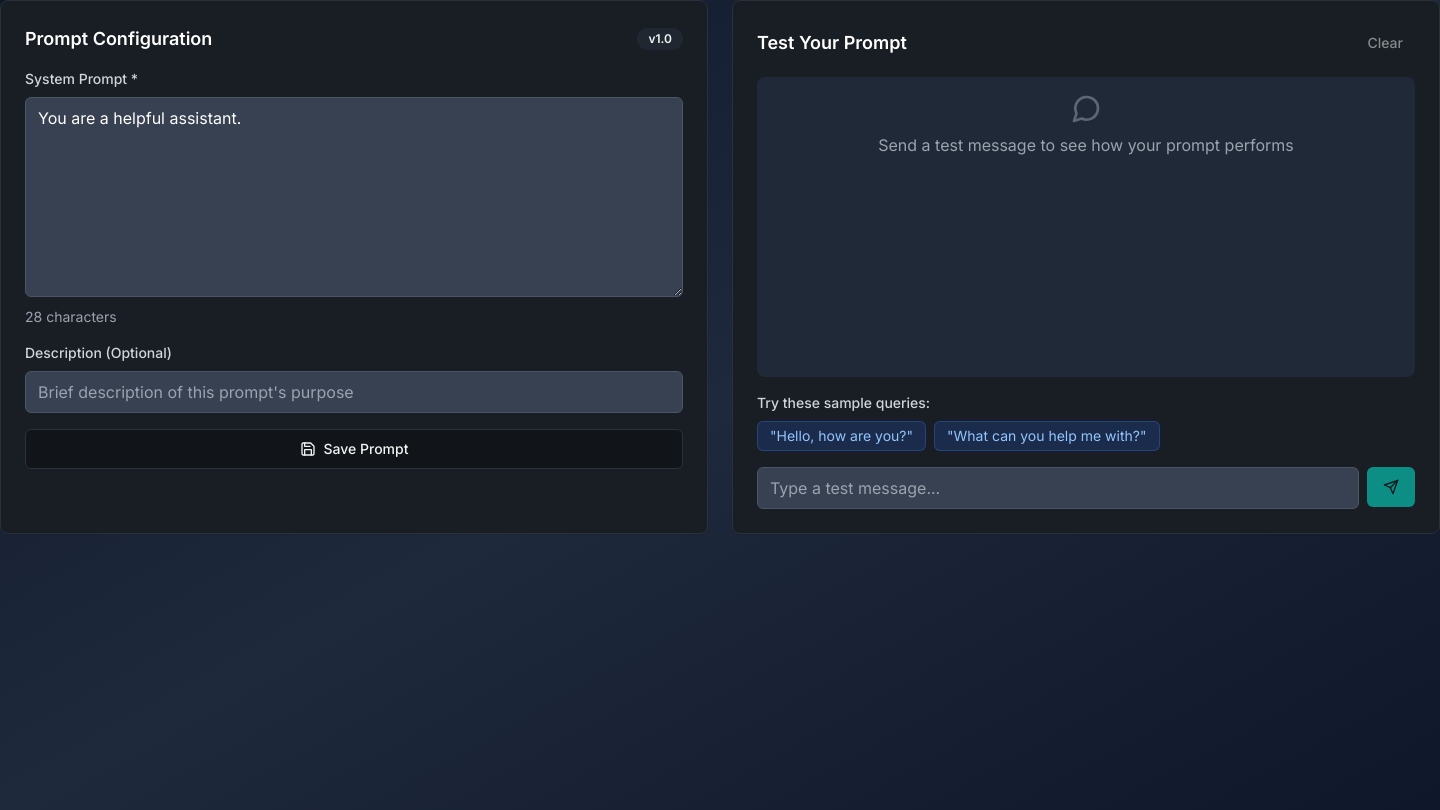
PromptTestingWorkbench › hides sample queries after sending a message
Expected: the text "Try these sample queries:" is shown, [757, 394, 930, 411]
Send a message
Type "Test message" into the field with test id "test-message-input". click: (1058,488)
box: [757, 467, 1359, 509]
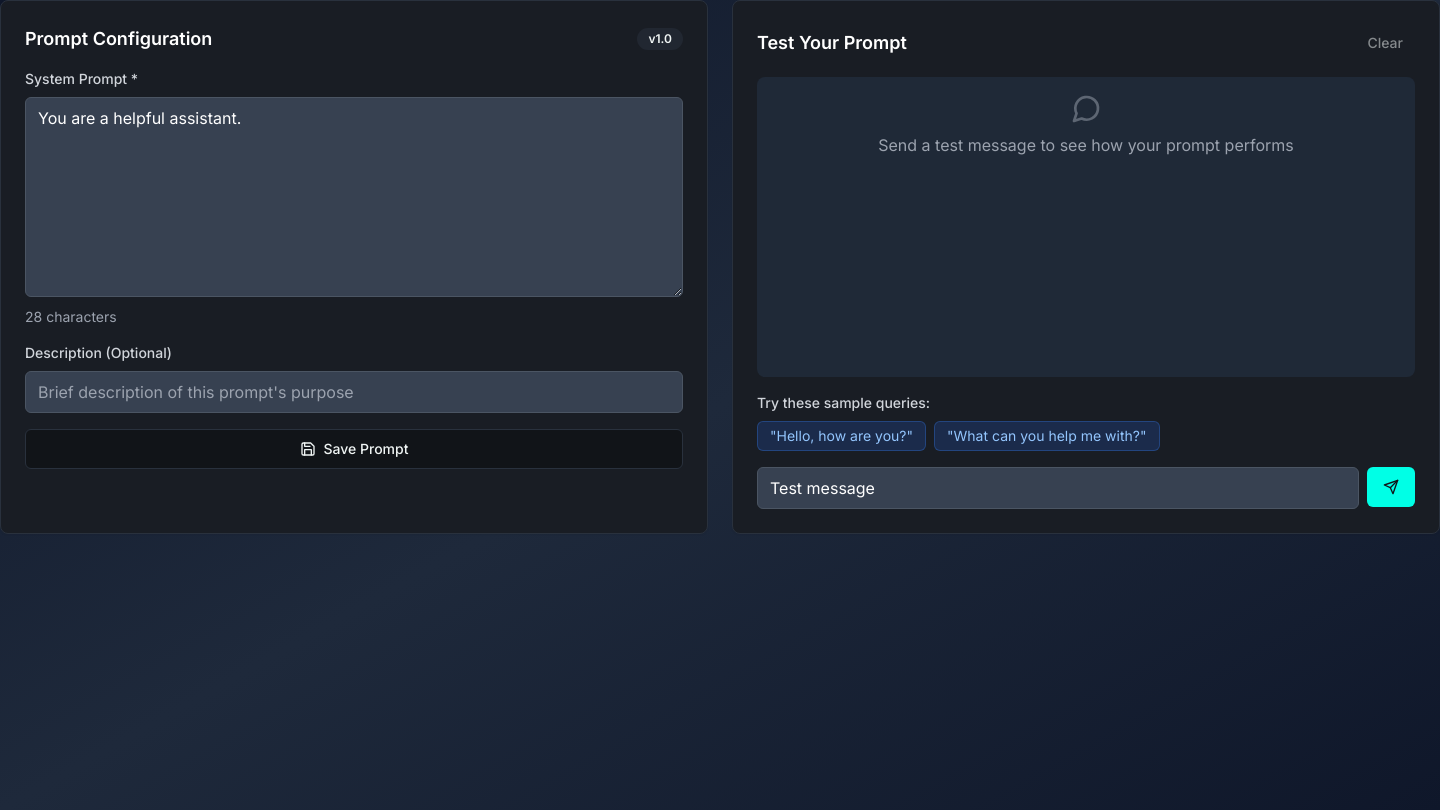
Click the button with test id "send-test-message". click: (1391,487)
box: [1367, 467, 1415, 507]
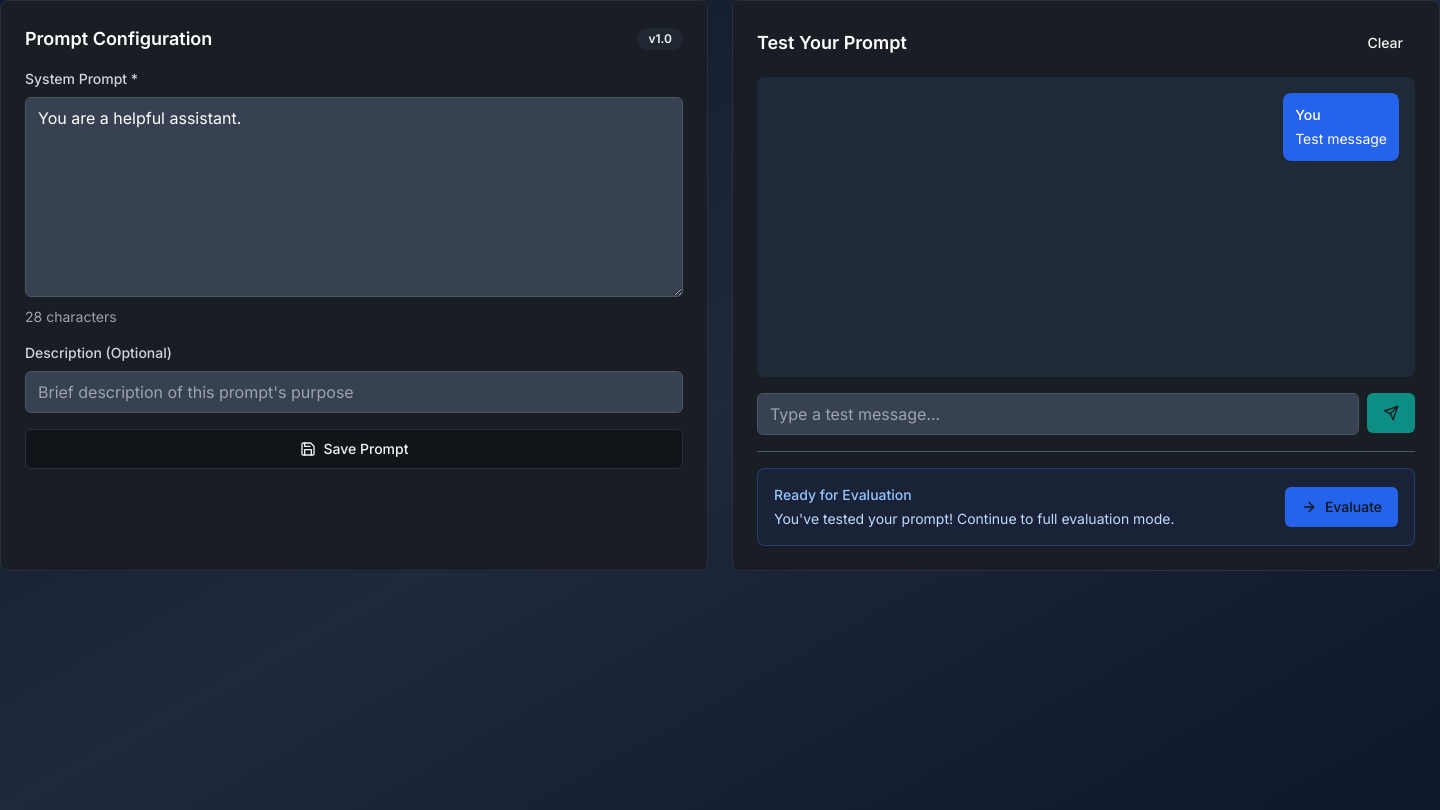
Now the text "Try these sample queries:" is gone
